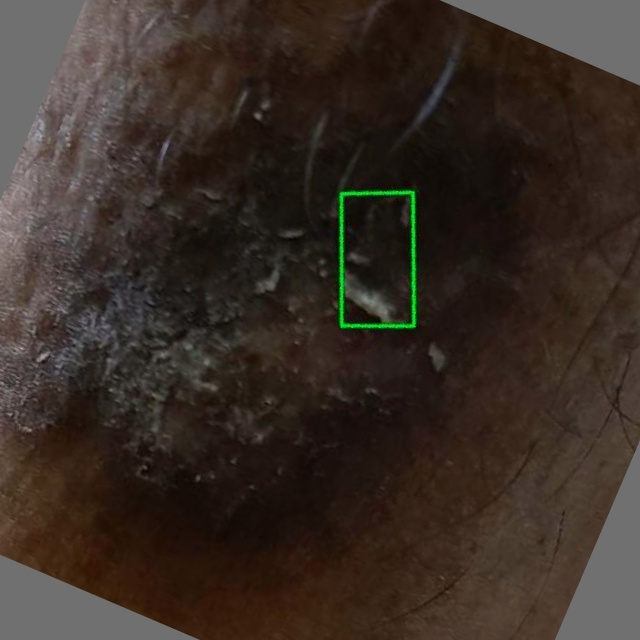Contact Dermatitis: (340, 193, 413, 326)
